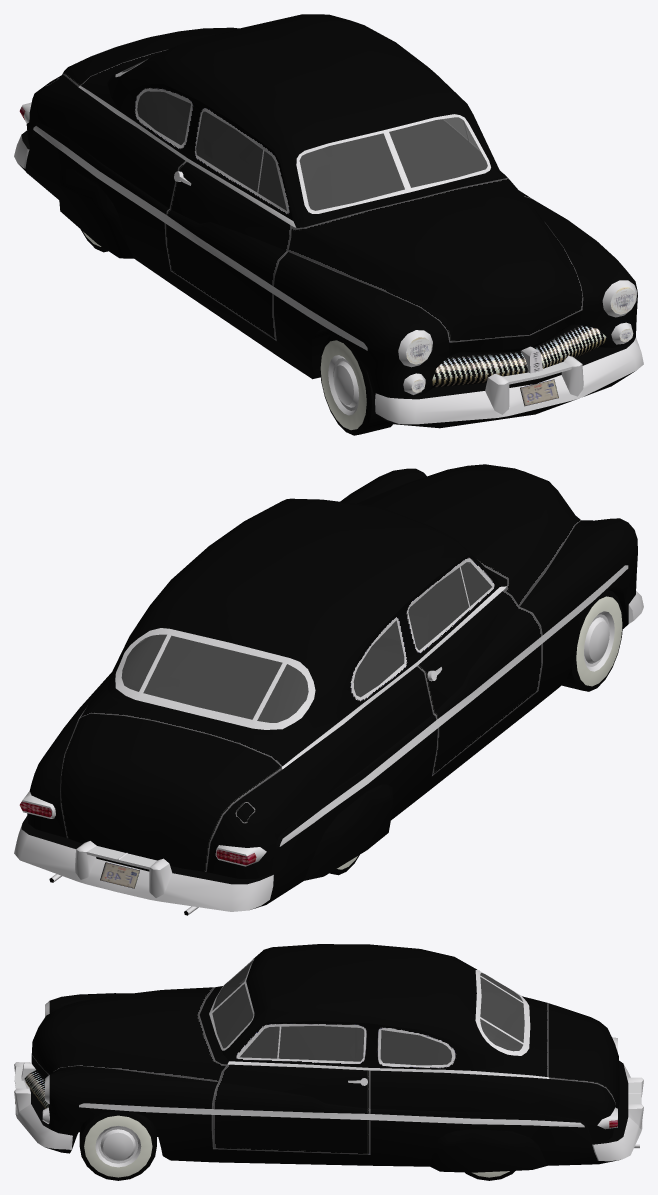
Rendered from 49_COUPE_MOVIE.glb.
3 views of the same model, one above another, from view 1: azimuth 30°, elevation 25°; view 2: azimuth 150°, elevation 25°; view 3: azimuth 270°, elevation 25° (orthographic). The views are drawn at different scales.
Parts seen in each view (by area): view 1: tree_node_76684, WHEEL_STATIC_0x769e4; view 2: tree_node_76684, WHEEL_STATIC_0x769e4, BRAKE_LIGHTS_OFF_0x766dc; view 3: tree_node_76684, WHEEL_STATIC_0x767bc.
Part boxes in pixels (x1,y1,x2,y2): tree_node_76684: [14, 14, 643, 428]; WHEEL_STATIC_0x769e4: [320, 334, 392, 435]; tree_node_76684: [14, 464, 643, 915]; WHEEL_STATIC_0x769e4: [561, 590, 623, 691]; BRAKE_LIGHTS_OFF_0x766dc: [19, 801, 256, 865]; tree_node_76684: [14, 944, 643, 1172]; WHEEL_STATIC_0x767bc: [79, 1111, 156, 1180].
Bounding box in the file's own units: 1.96 × 1.5 × 5.1.
Materials: 2 (1 with a texture image).
